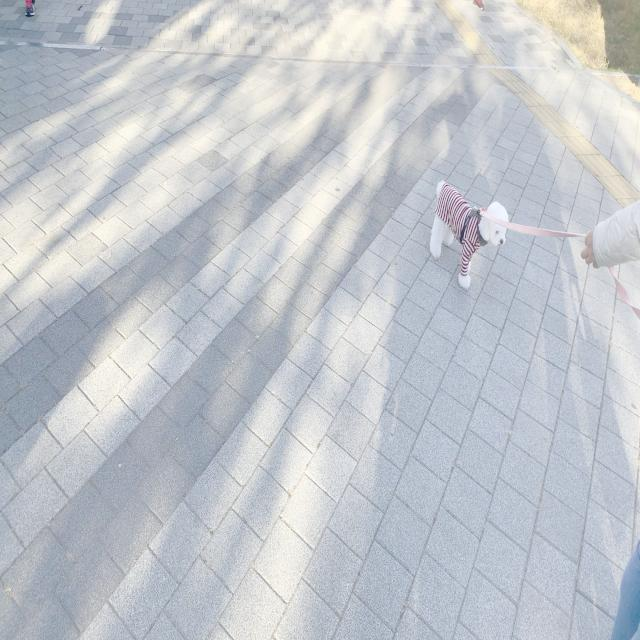Leashed_Dog: (429, 178, 627, 296)
